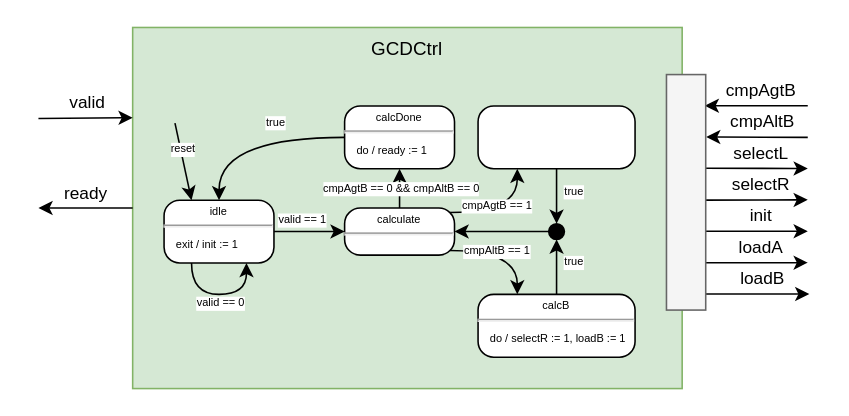
The diagram is 849 pixels wide and 416 high, and some of its shapes have lost their labels. Here are the shapes that lost their labels. From the top down, the box of each, then its label:
(476, 104, 635, 169): calcA do / selectL := 1, loadA := 1
(665, 73, 706, 310): DataControlIF
